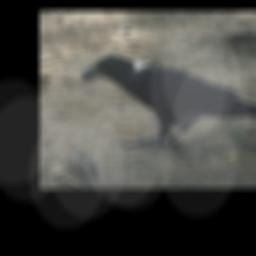Crow: (81, 53, 256, 150)
